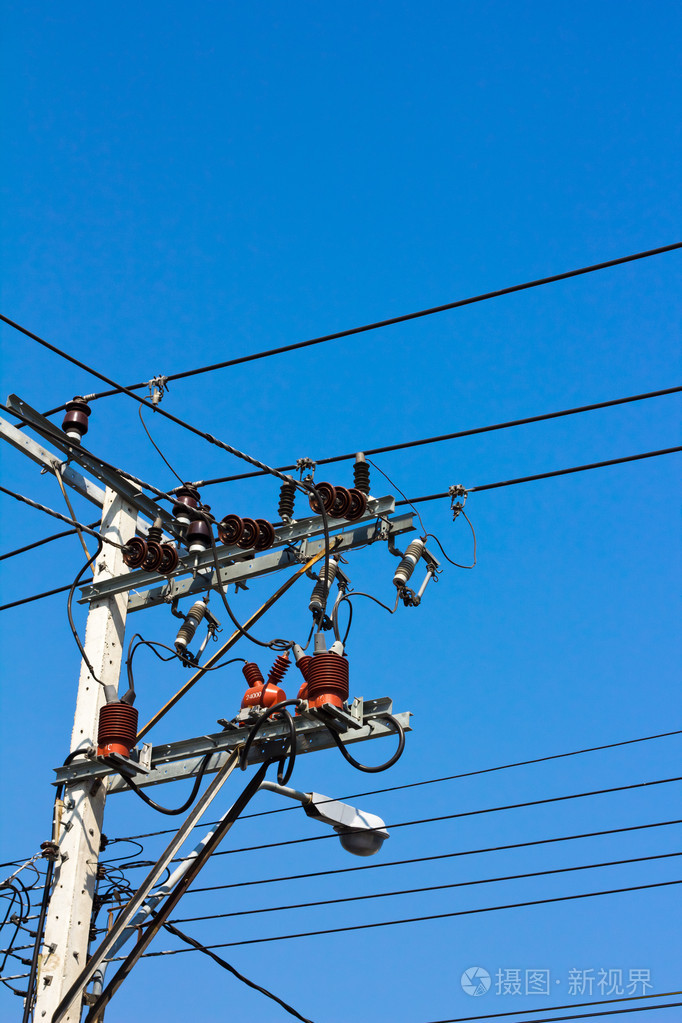insulator: (305, 481, 368, 520), (122, 537, 177, 579), (218, 512, 273, 546)
